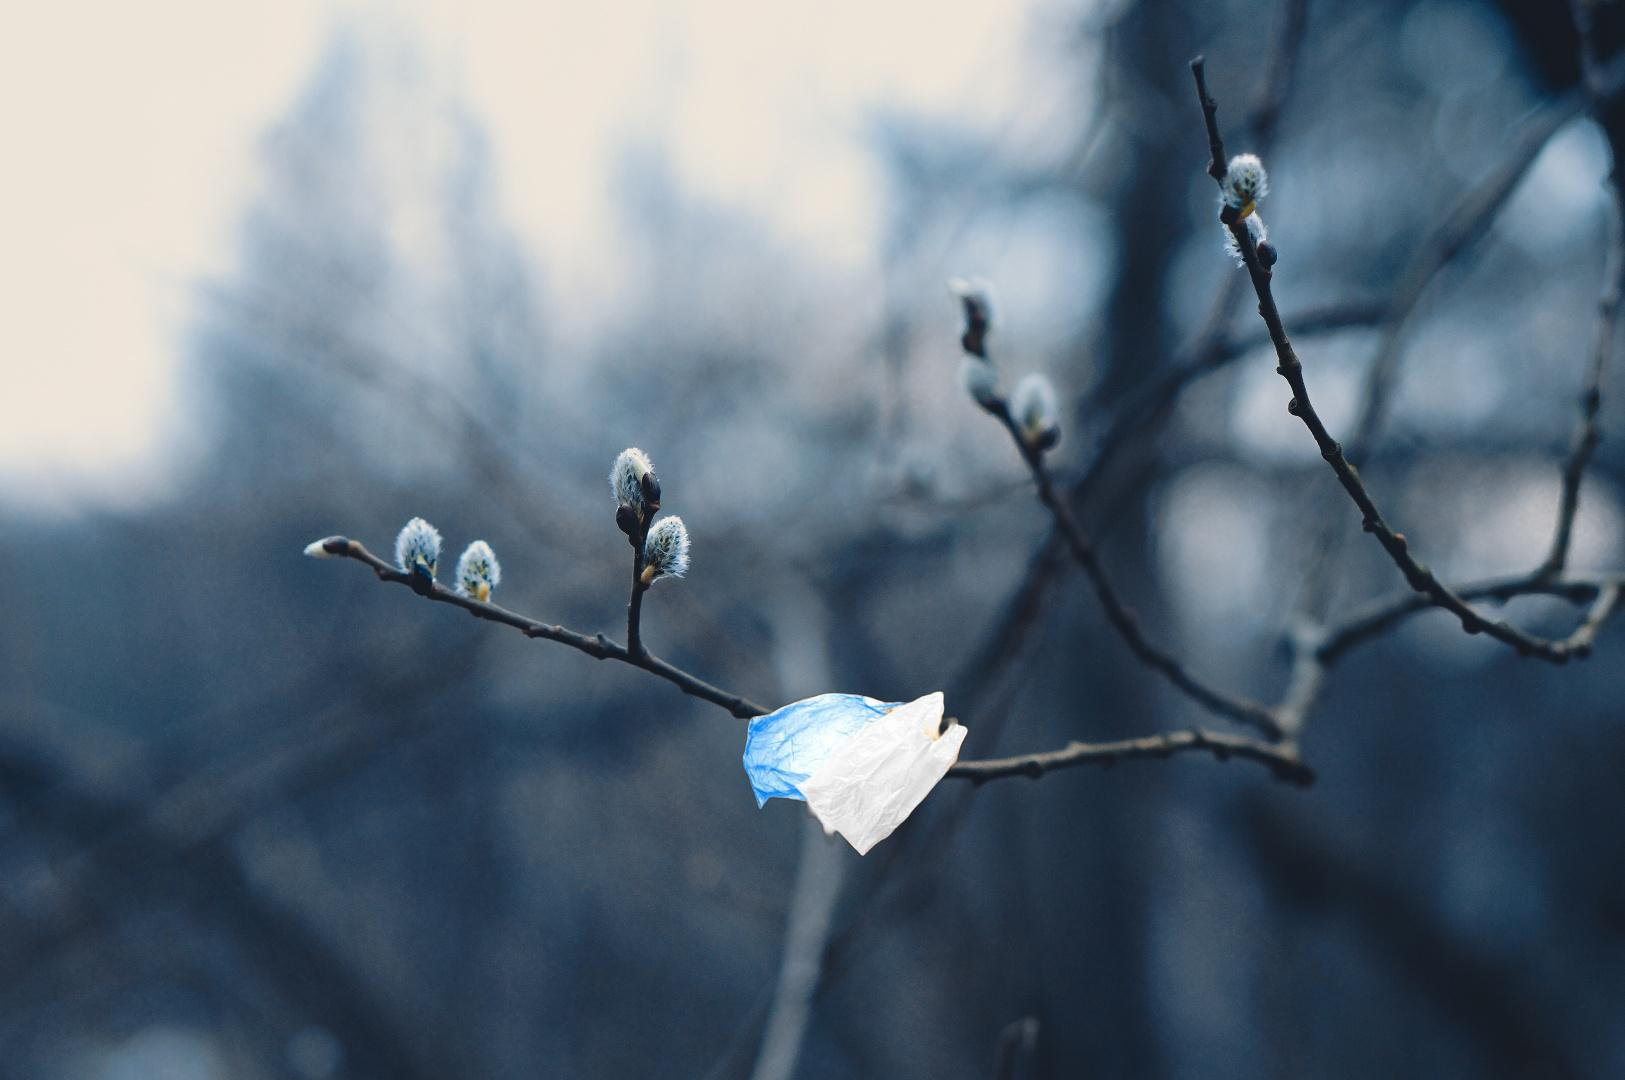plastic-bag: (739, 688, 972, 859)
